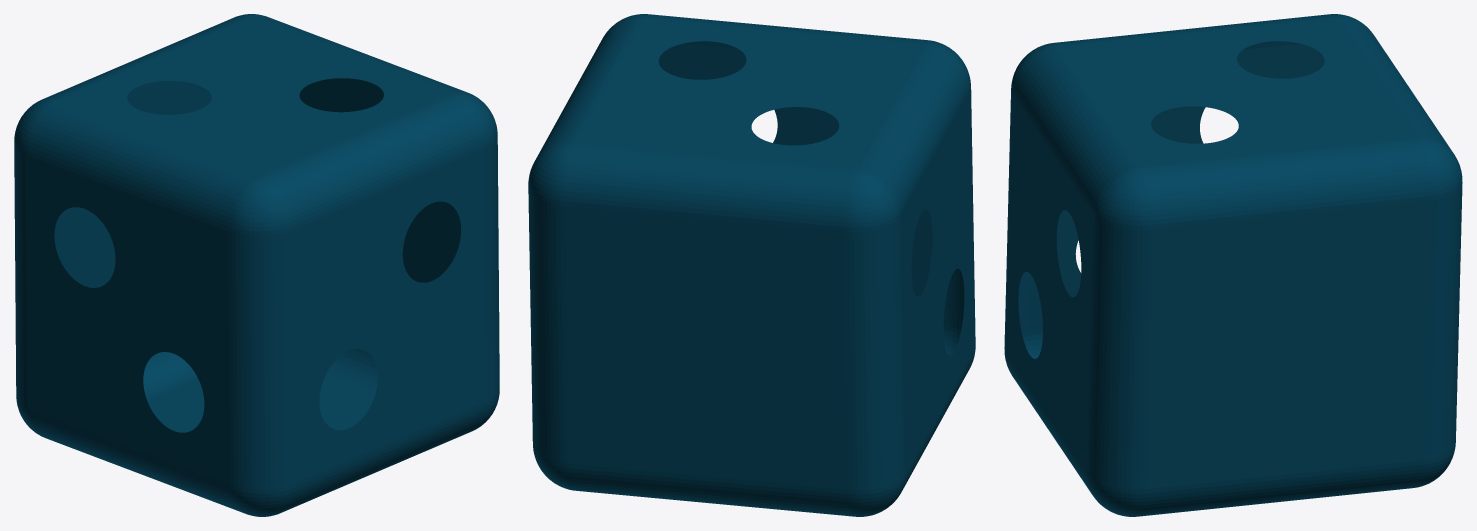
The picture shows the model from 3 angles, left to right: view 1: azimuth 30°, elevation 25°; view 2: azimuth 150°, elevation 25°; view 3: azimuth 270°, elevation 25°; orthographic projection. The views are drawn at different scales.
Visible parts, largest first — view 1: Cube_1_Boole1_Cube1; view 2: Cube_1_Boole1_Cube1; view 3: Cube_1_Boole1_Cube1.
Part boxes in pixels (bbox=[...]): Cube_1_Boole1_Cube1: bbox=[14, 14, 499, 516]; Cube_1_Boole1_Cube1: bbox=[528, 14, 975, 516]; Cube_1_Boole1_Cube1: bbox=[1004, 14, 1462, 516].
Bounding box in the file's own units: 237 × 239 × 205.
